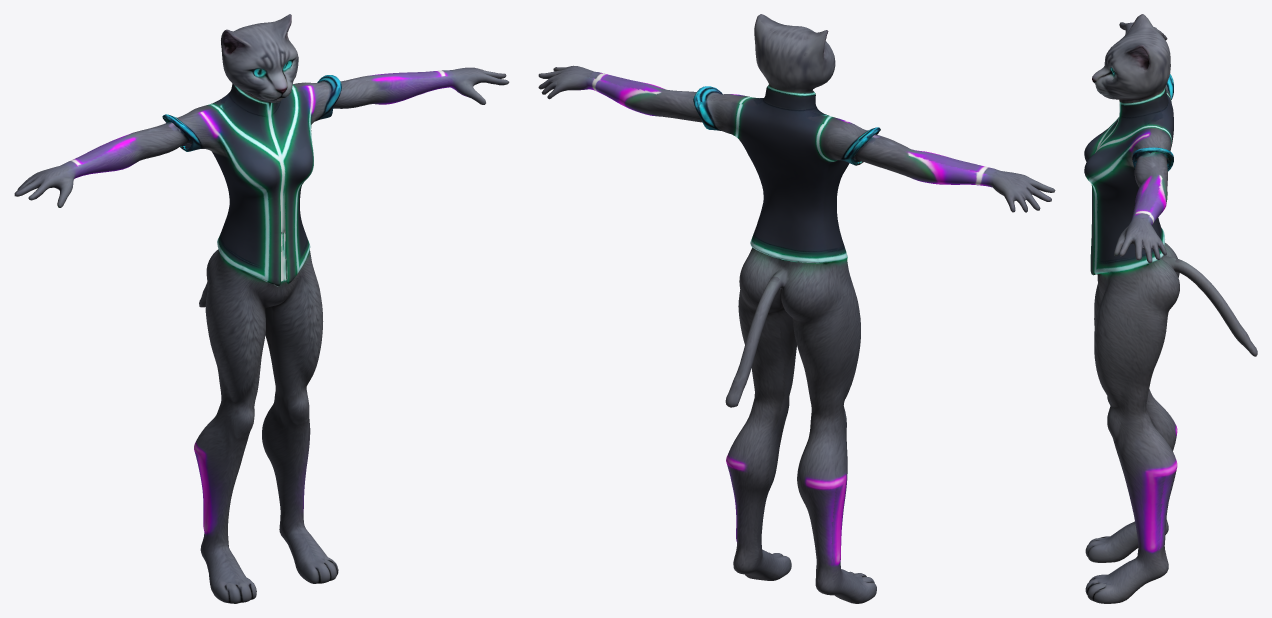
File: 122_cat_orig.glb
The picture shows the model from 3 angles, left to right: view 1: azimuth 30°, elevation 25°; view 2: azimuth 150°, elevation 25°; view 3: azimuth 270°, elevation 25°; orthographic projection. The views are drawn at different scales.
Visible parts, largest first — view 1: geometry_0.001; view 2: geometry_0.001; view 3: geometry_0.001.
Boxes of the visible parts, box(x1,y1,x2,y2) form: geometry_0.001: box(14, 14, 509, 603); geometry_0.001: box(538, 14, 1055, 603); geometry_0.001: box(1084, 14, 1257, 603).
Bounding box in the file's own units: 1.86 × 2 × 0.5747.
Materials: 1 (1 with a texture image).
